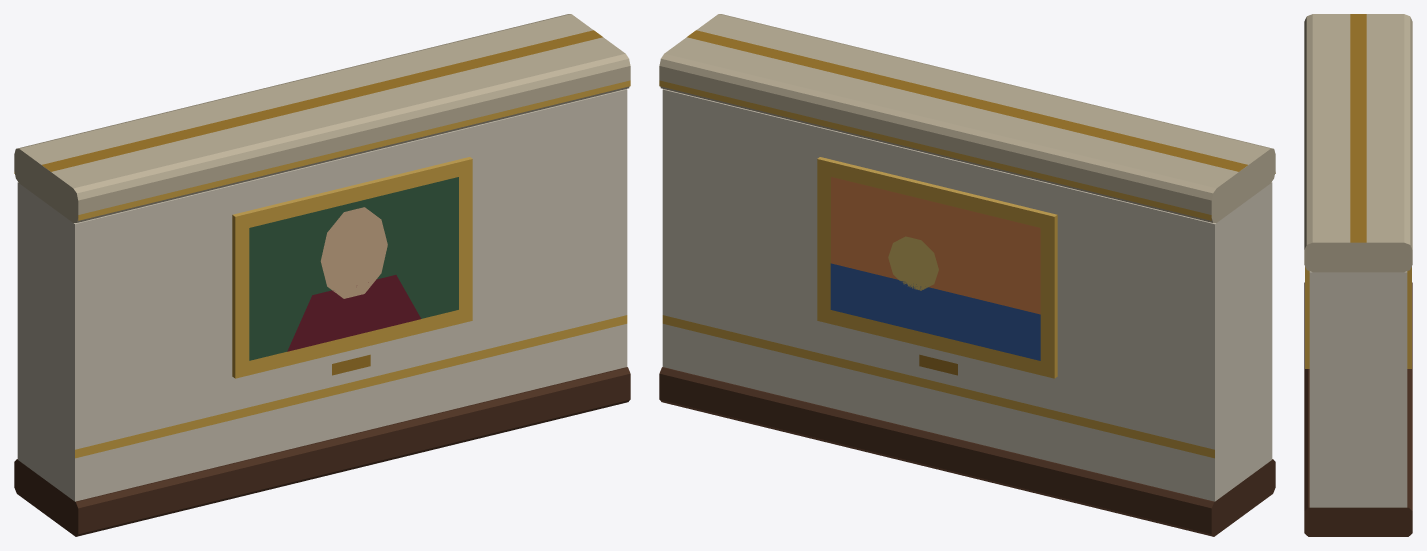
Rendered from museum-wall1.glb.
3 renders of one model, left to right at view 1: azimuth 30°, elevation 25°; view 2: azimuth 150°, elevation 25°; view 3: azimuth 270°, elevation 25°, orthographic. The views are drawn at different scales.
Visible parts, largest first — view 1: museum-wall1; view 2: museum-wall1; view 3: museum-wall1.
Boxes of the visible parts, x1=… form: museum-wall1: x1=14, y1=14, x2=630, y2=536; museum-wall1: x1=659, y1=14, x2=1275, y2=536; museum-wall1: x1=1304, y1=14, x2=1412, y2=536.
Bounding box in the file's own units: 2 × 1.2 × 0.401.
